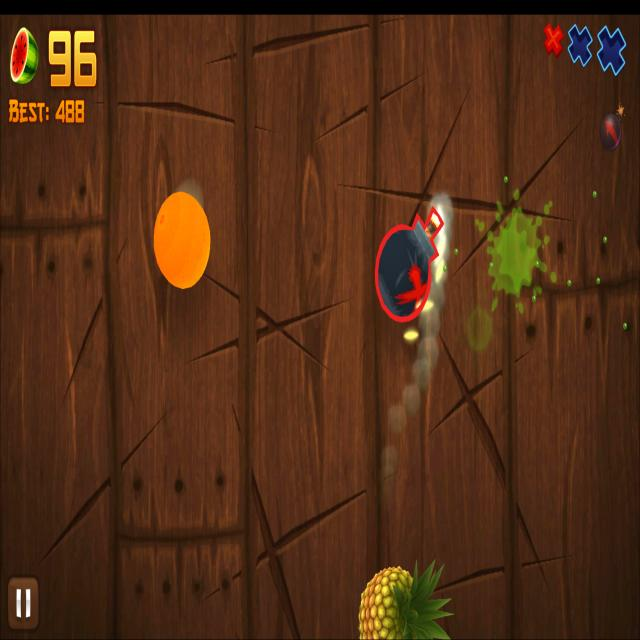bomb: (374, 202, 445, 326)
fruit: (153, 193, 212, 289), (358, 564, 424, 640)
